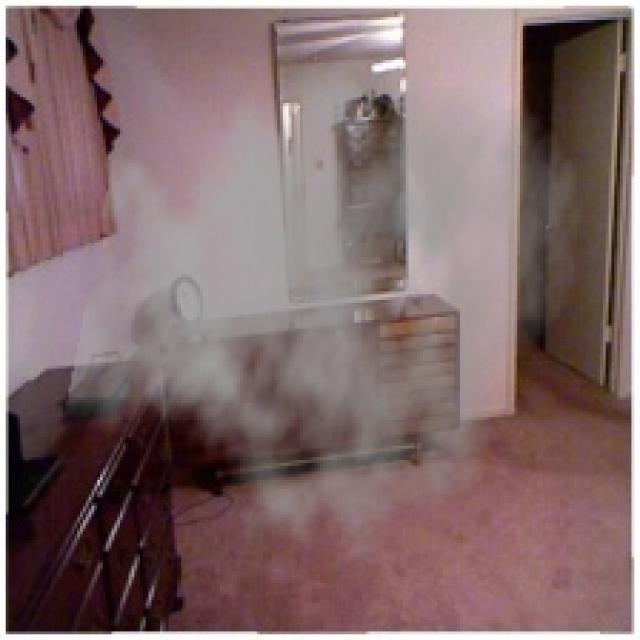smoke: (63, 9, 586, 568)
